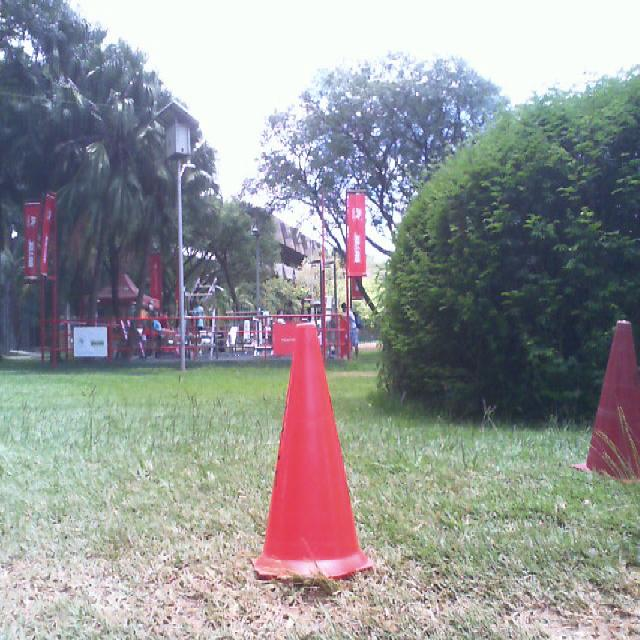cone: (251, 322, 374, 578), (571, 320, 640, 484)
